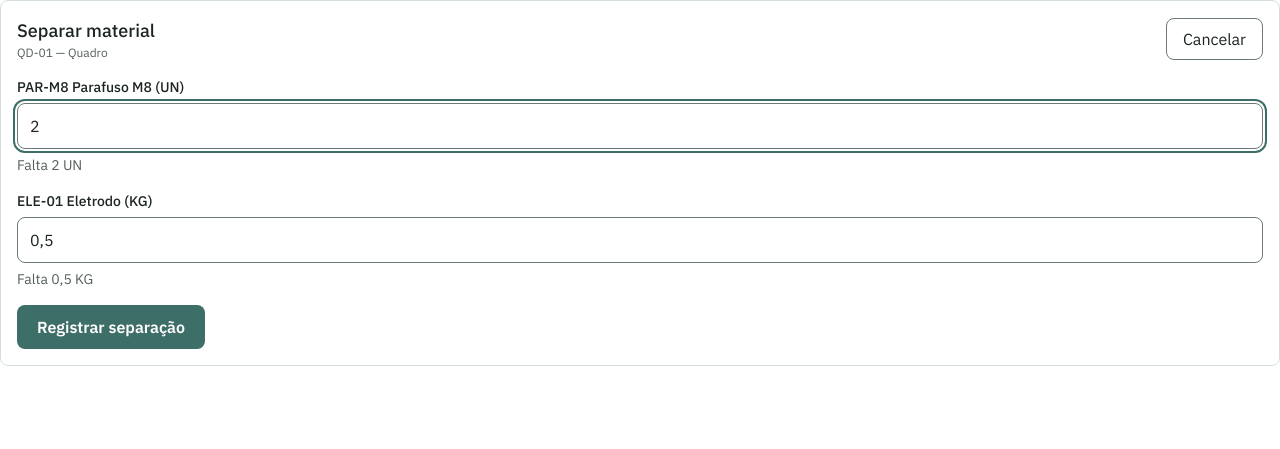
Test case: PainelDeSeparacao › erro que não é 409 fica no painel e não recarrega
The image size is (1280, 449).
Click the button "Registrar separação" at (111, 327), box x1=17 y1=305 x2=205 y2=349
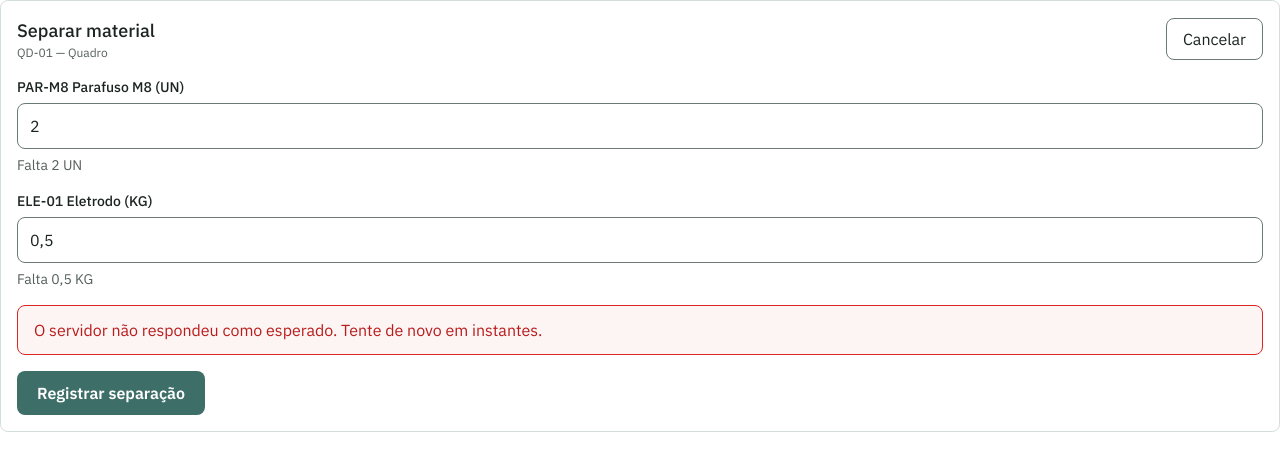
Expected: the button "Registrar separação" is enabled, x1=17 y1=371 x2=205 y2=415
Result: the message reads "O servidor não respondeu como esperado. Tente de novo em instantes." at x1=34 y1=320 x2=542 y2=340
